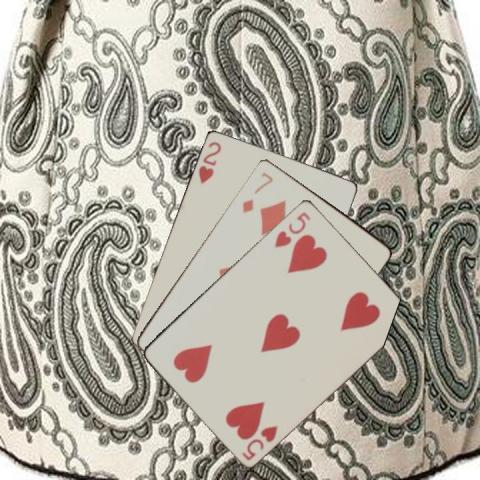2h: (195, 138, 223, 185)
5h: (271, 209, 312, 249), (239, 422, 280, 462)
7d: (239, 168, 275, 214)
